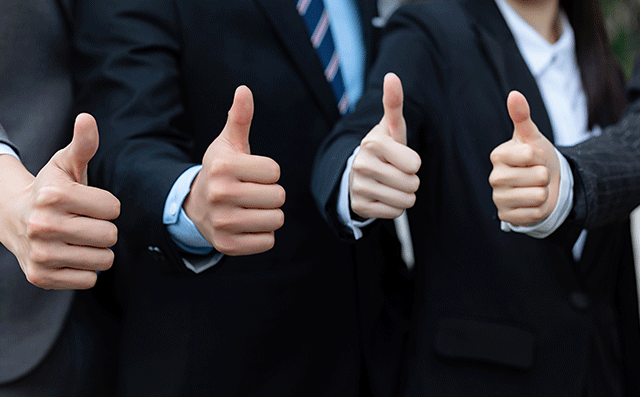no-phone: (6, 108, 122, 292), (197, 82, 288, 260), (348, 70, 423, 223), (486, 88, 560, 227)
